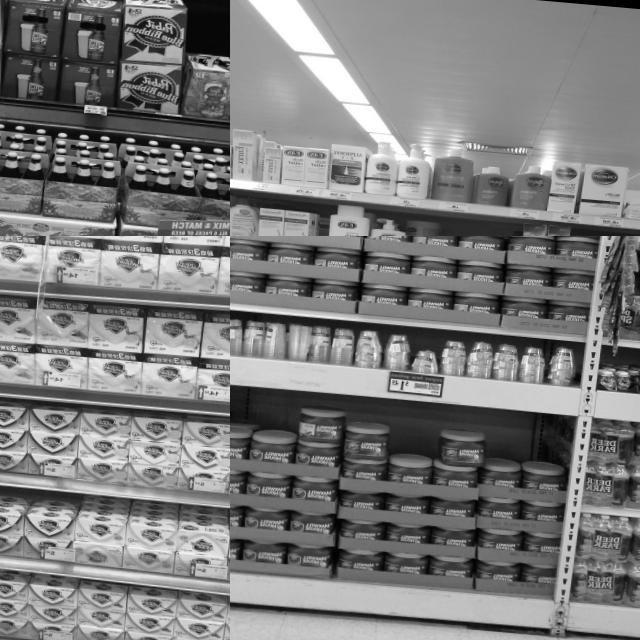empty_space: (190, 0, 230, 58)
